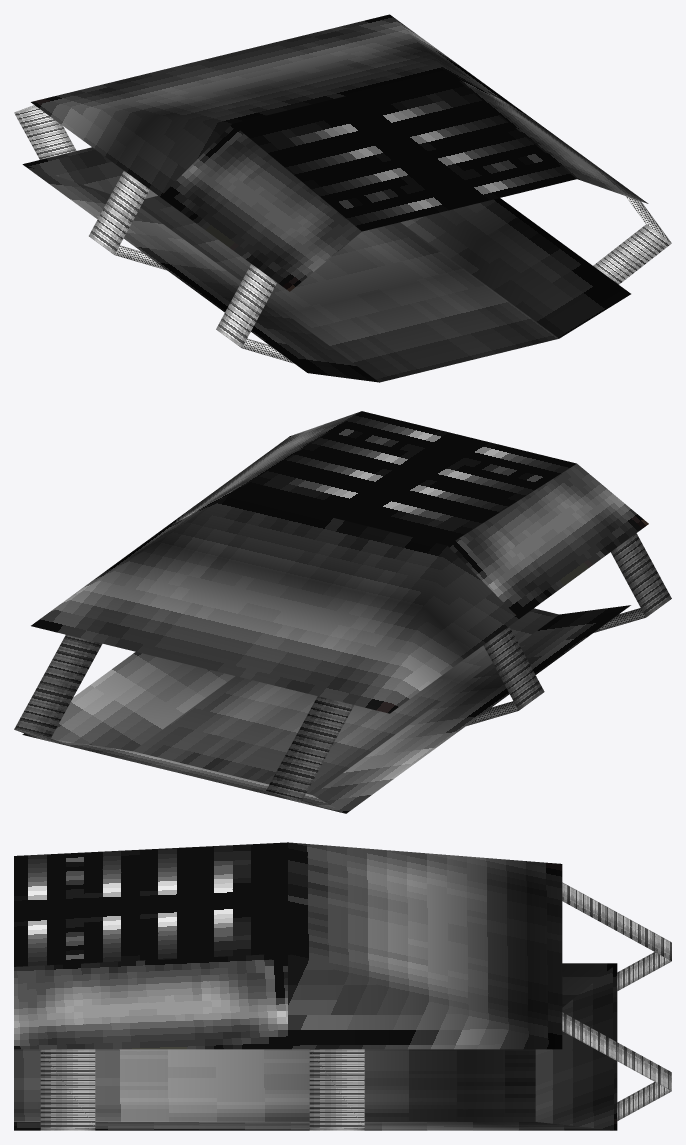
Rendered from PbodyarmourvestZ.obj.
3 renders of one model, top to bottom at view 1: azimuth 30°, elevation 25°; view 2: azimuth 150°, elevation 25°; view 3: azimuth 270°, elevation 25°, orthographic. The views are drawn at different scales.
Bounding box in the file's own units: 316 × 118 × 396.
Materials: 2 (2 with a texture image).
